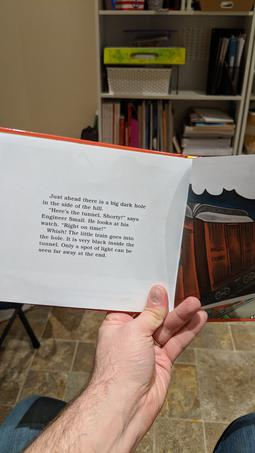text block: (31, 188, 150, 263)
